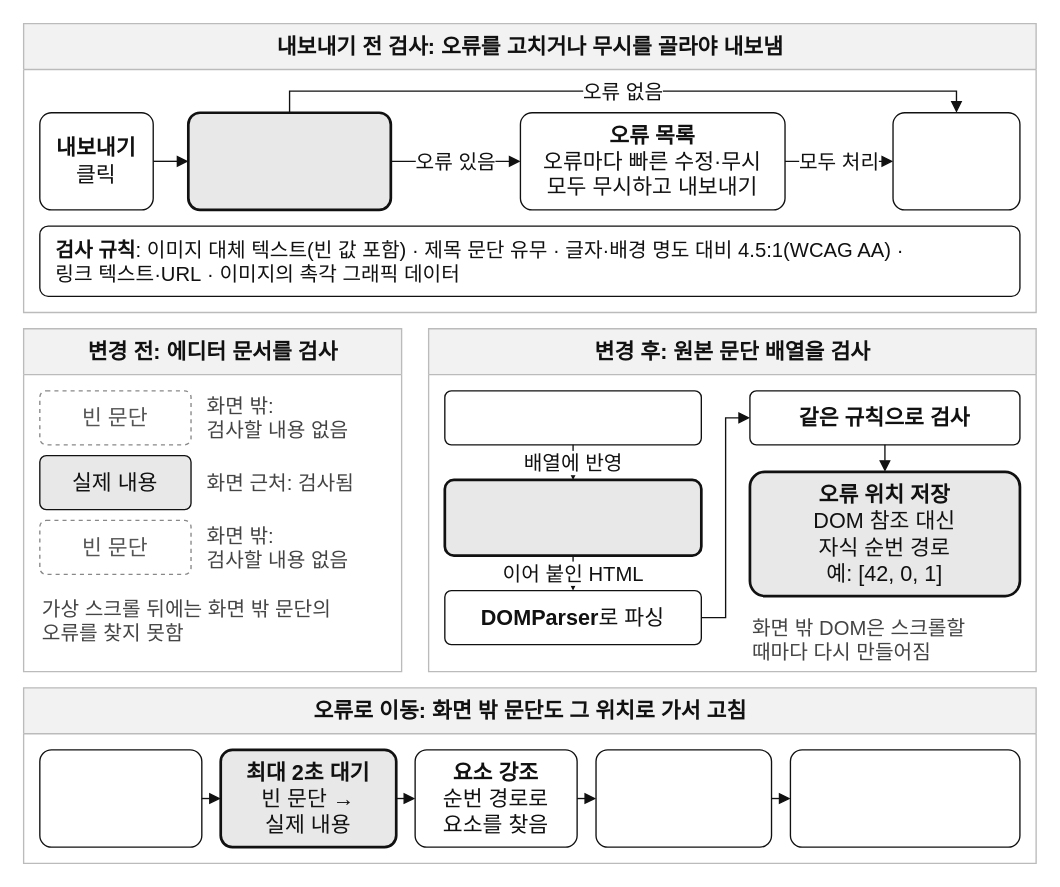
Image size: 1060x887. Some labels were removed from this diagram. Here are the shapes that lost their labels. From the top down, the centre of each, then its label:
point 289,161: 접근성 검사 검사 중 버튼 잠금
point 956,160: 내보내기
point 572,417: 에디터 현재 내용
point 572,517: 원본 문단 배열 문서 전체 문단
point 120,798: 문단으로 스크롤 오류가 있는 문단
point 683,798: 빠른 수정 대체 텍스트 입력 링크 수정
point 904,798: 원본 배열에 반영 순번이 밀리면 남은 오류 경로 재계산
